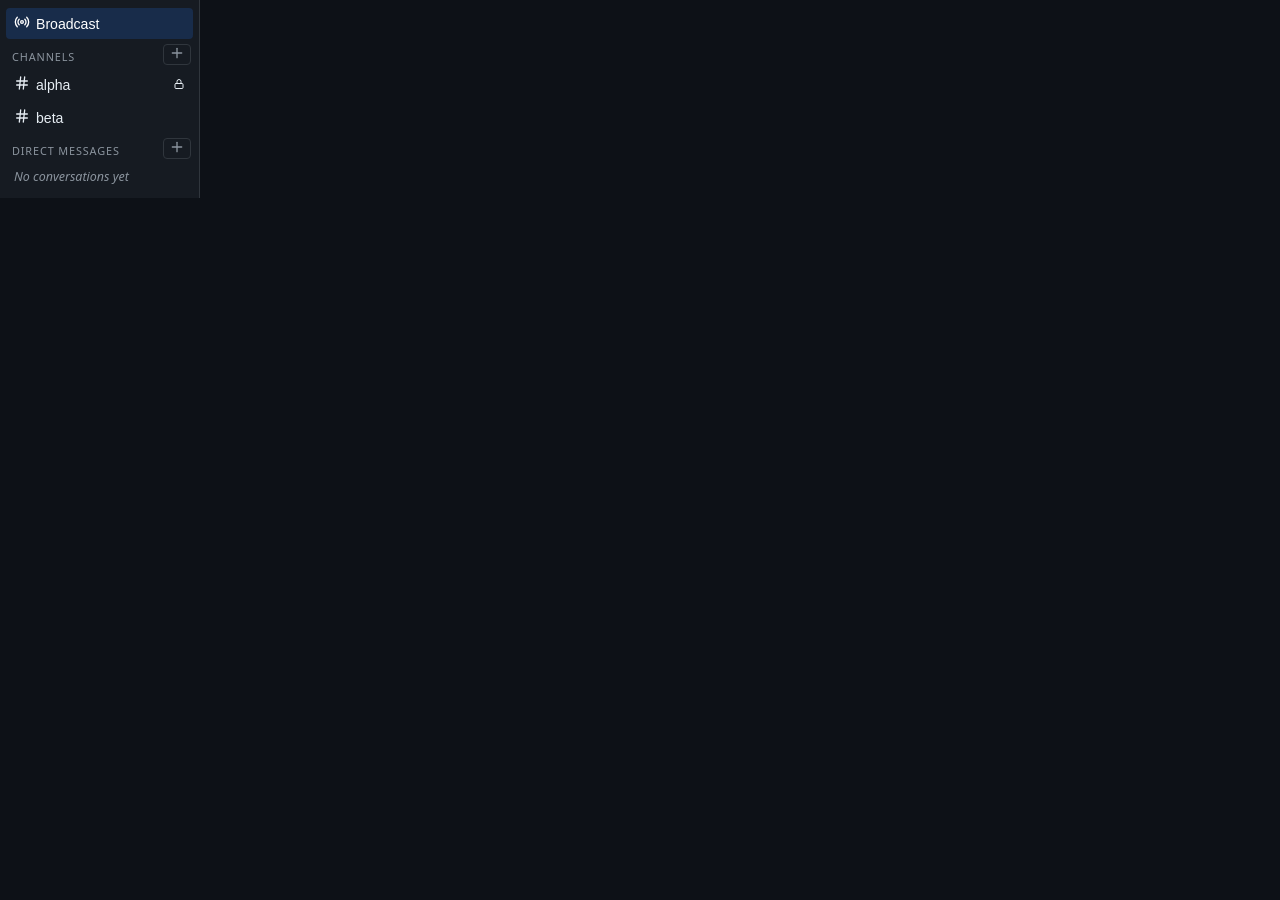
Test: ConversationList dialog a11y › New Direct Message dialog exposes dialog role/aria-modal and closes on Escape
Click the button named "New direct message" at (177, 148), box [163,138,191,159]
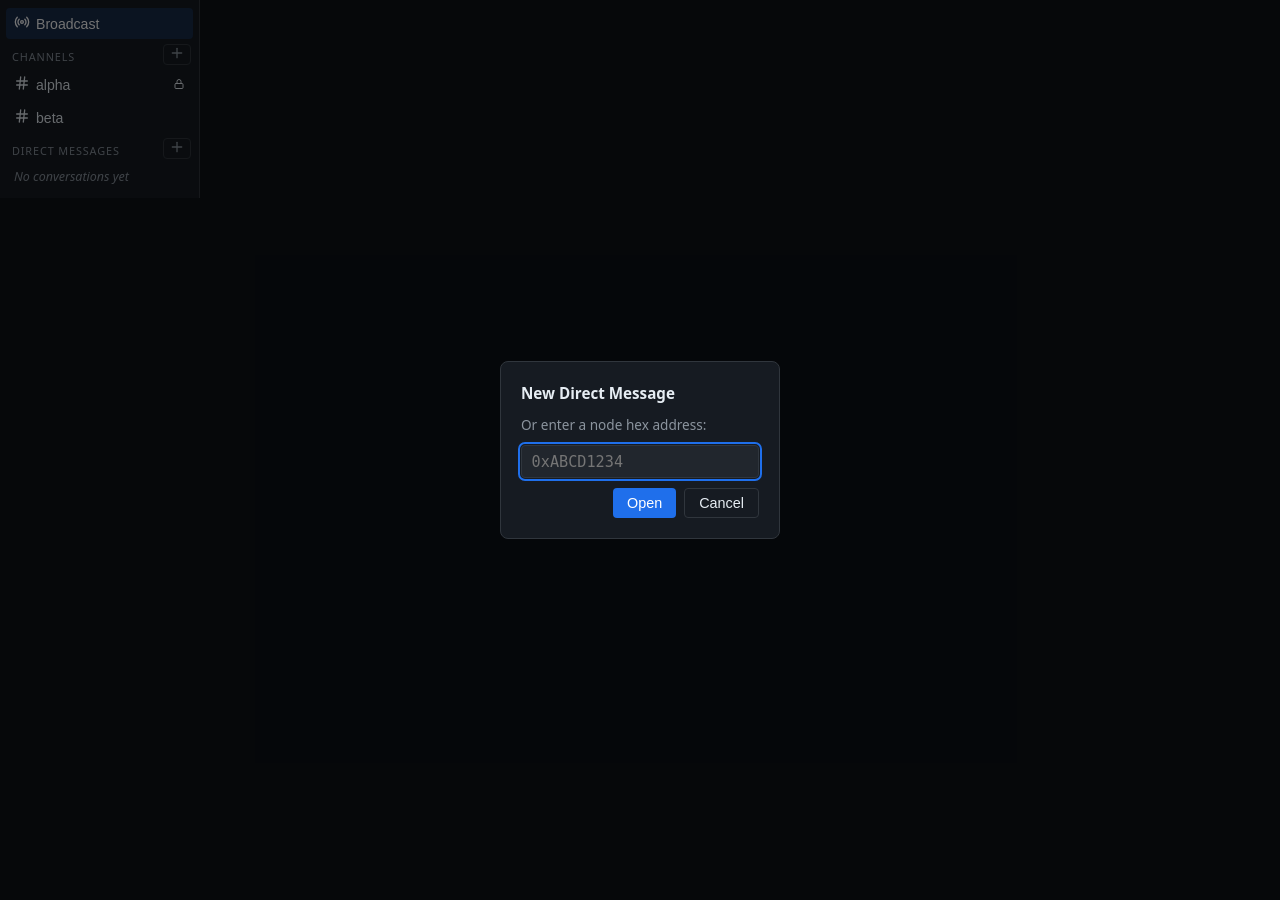
Press Escape in the dialog "New Direct Message"
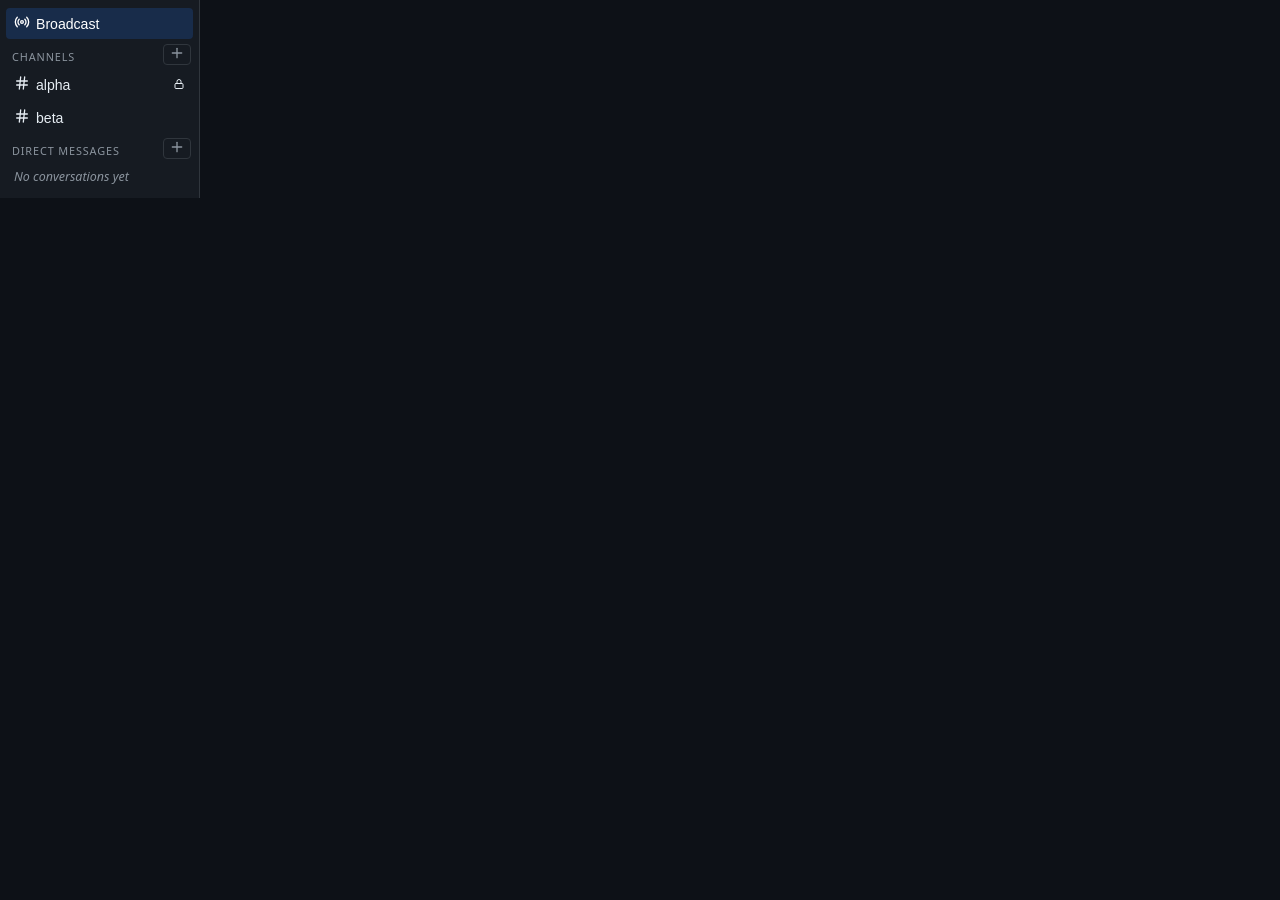
Expected: the heading "New Direct Message" is gone
